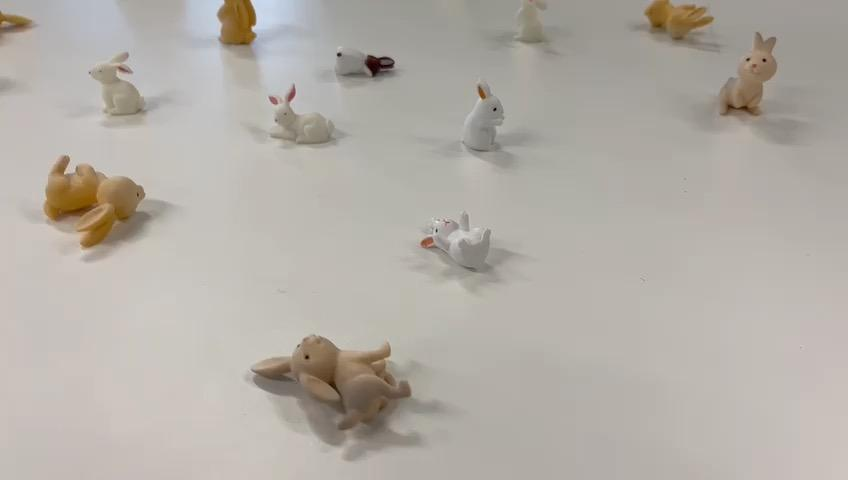pet: (253, 310, 416, 464), (36, 148, 159, 253), (698, 38, 797, 152), (266, 85, 366, 171), (413, 198, 497, 286), (326, 13, 409, 97), (86, 43, 158, 134), (628, 0, 735, 53), (458, 73, 526, 155), (506, 0, 561, 55), (218, 0, 275, 53)
